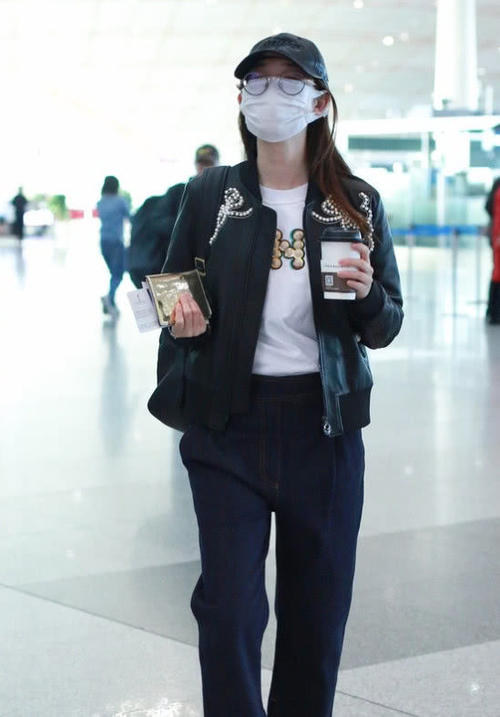yes_mask: (226, 27, 333, 150)
